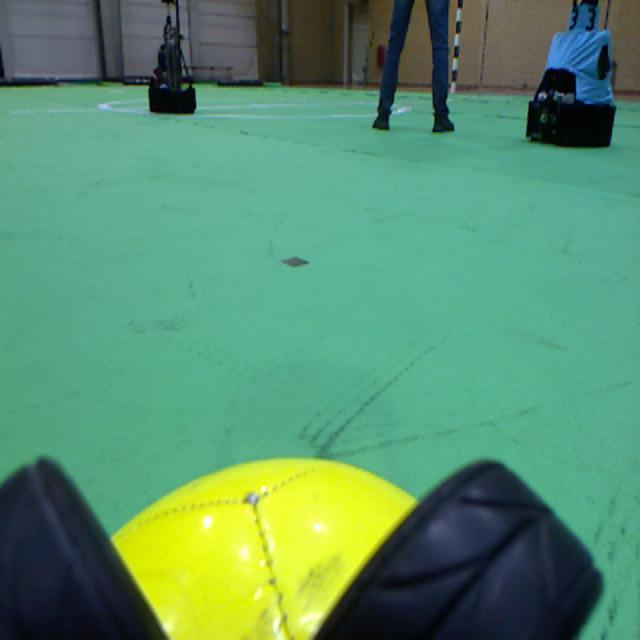ball: (112, 459, 416, 637)
robot: (149, 0, 195, 112)
